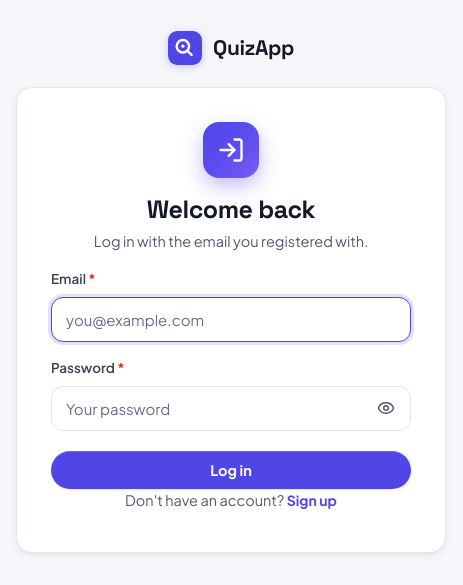
Test: LoginPage › shows a validation error for an invalid email
The width and height of the screenshot is (463, 585).
Type "nope" into the field labelled "Email *".
click(231, 319); type("nope")  # box [51,297,411,342]
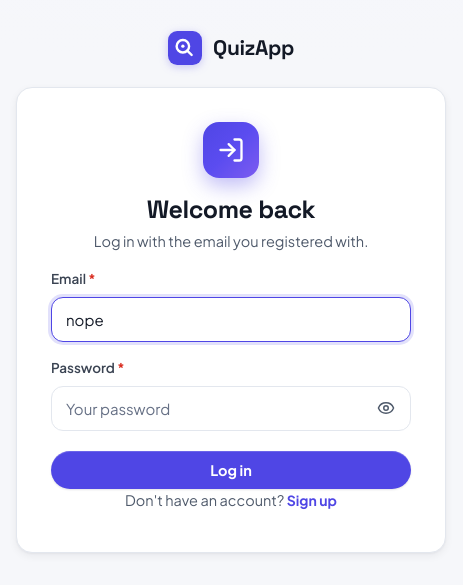
Type "secret" into the password field labelled "Password *".
click(231, 408); type("secret")  # box [51,386,411,431]
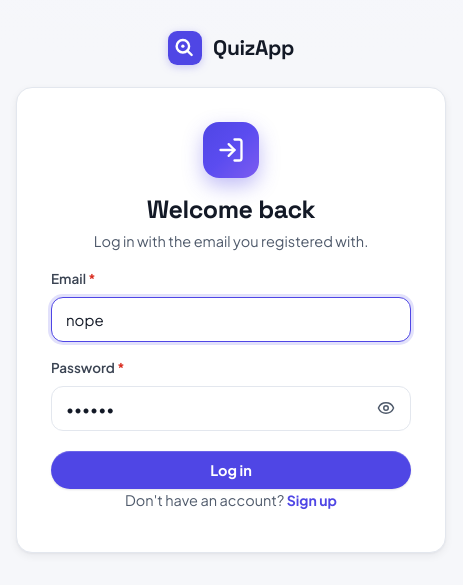
Submit the form
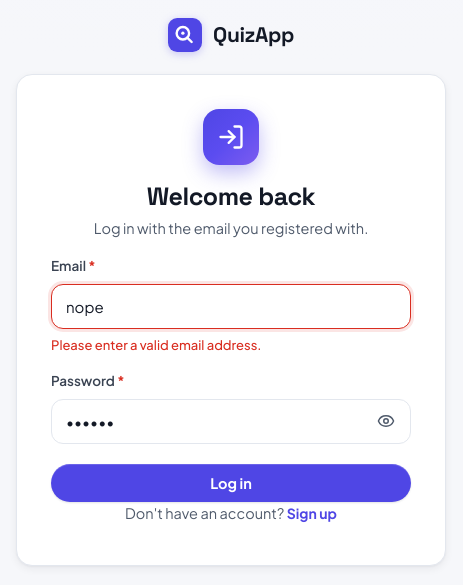
Result: the text "Please enter a valid email address." is shown at [51,337,262,353]
